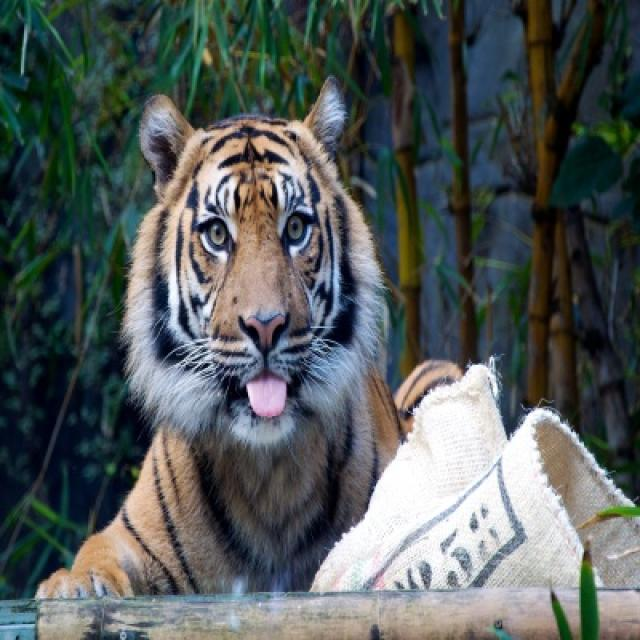Tiger: (42, 73, 453, 598)
